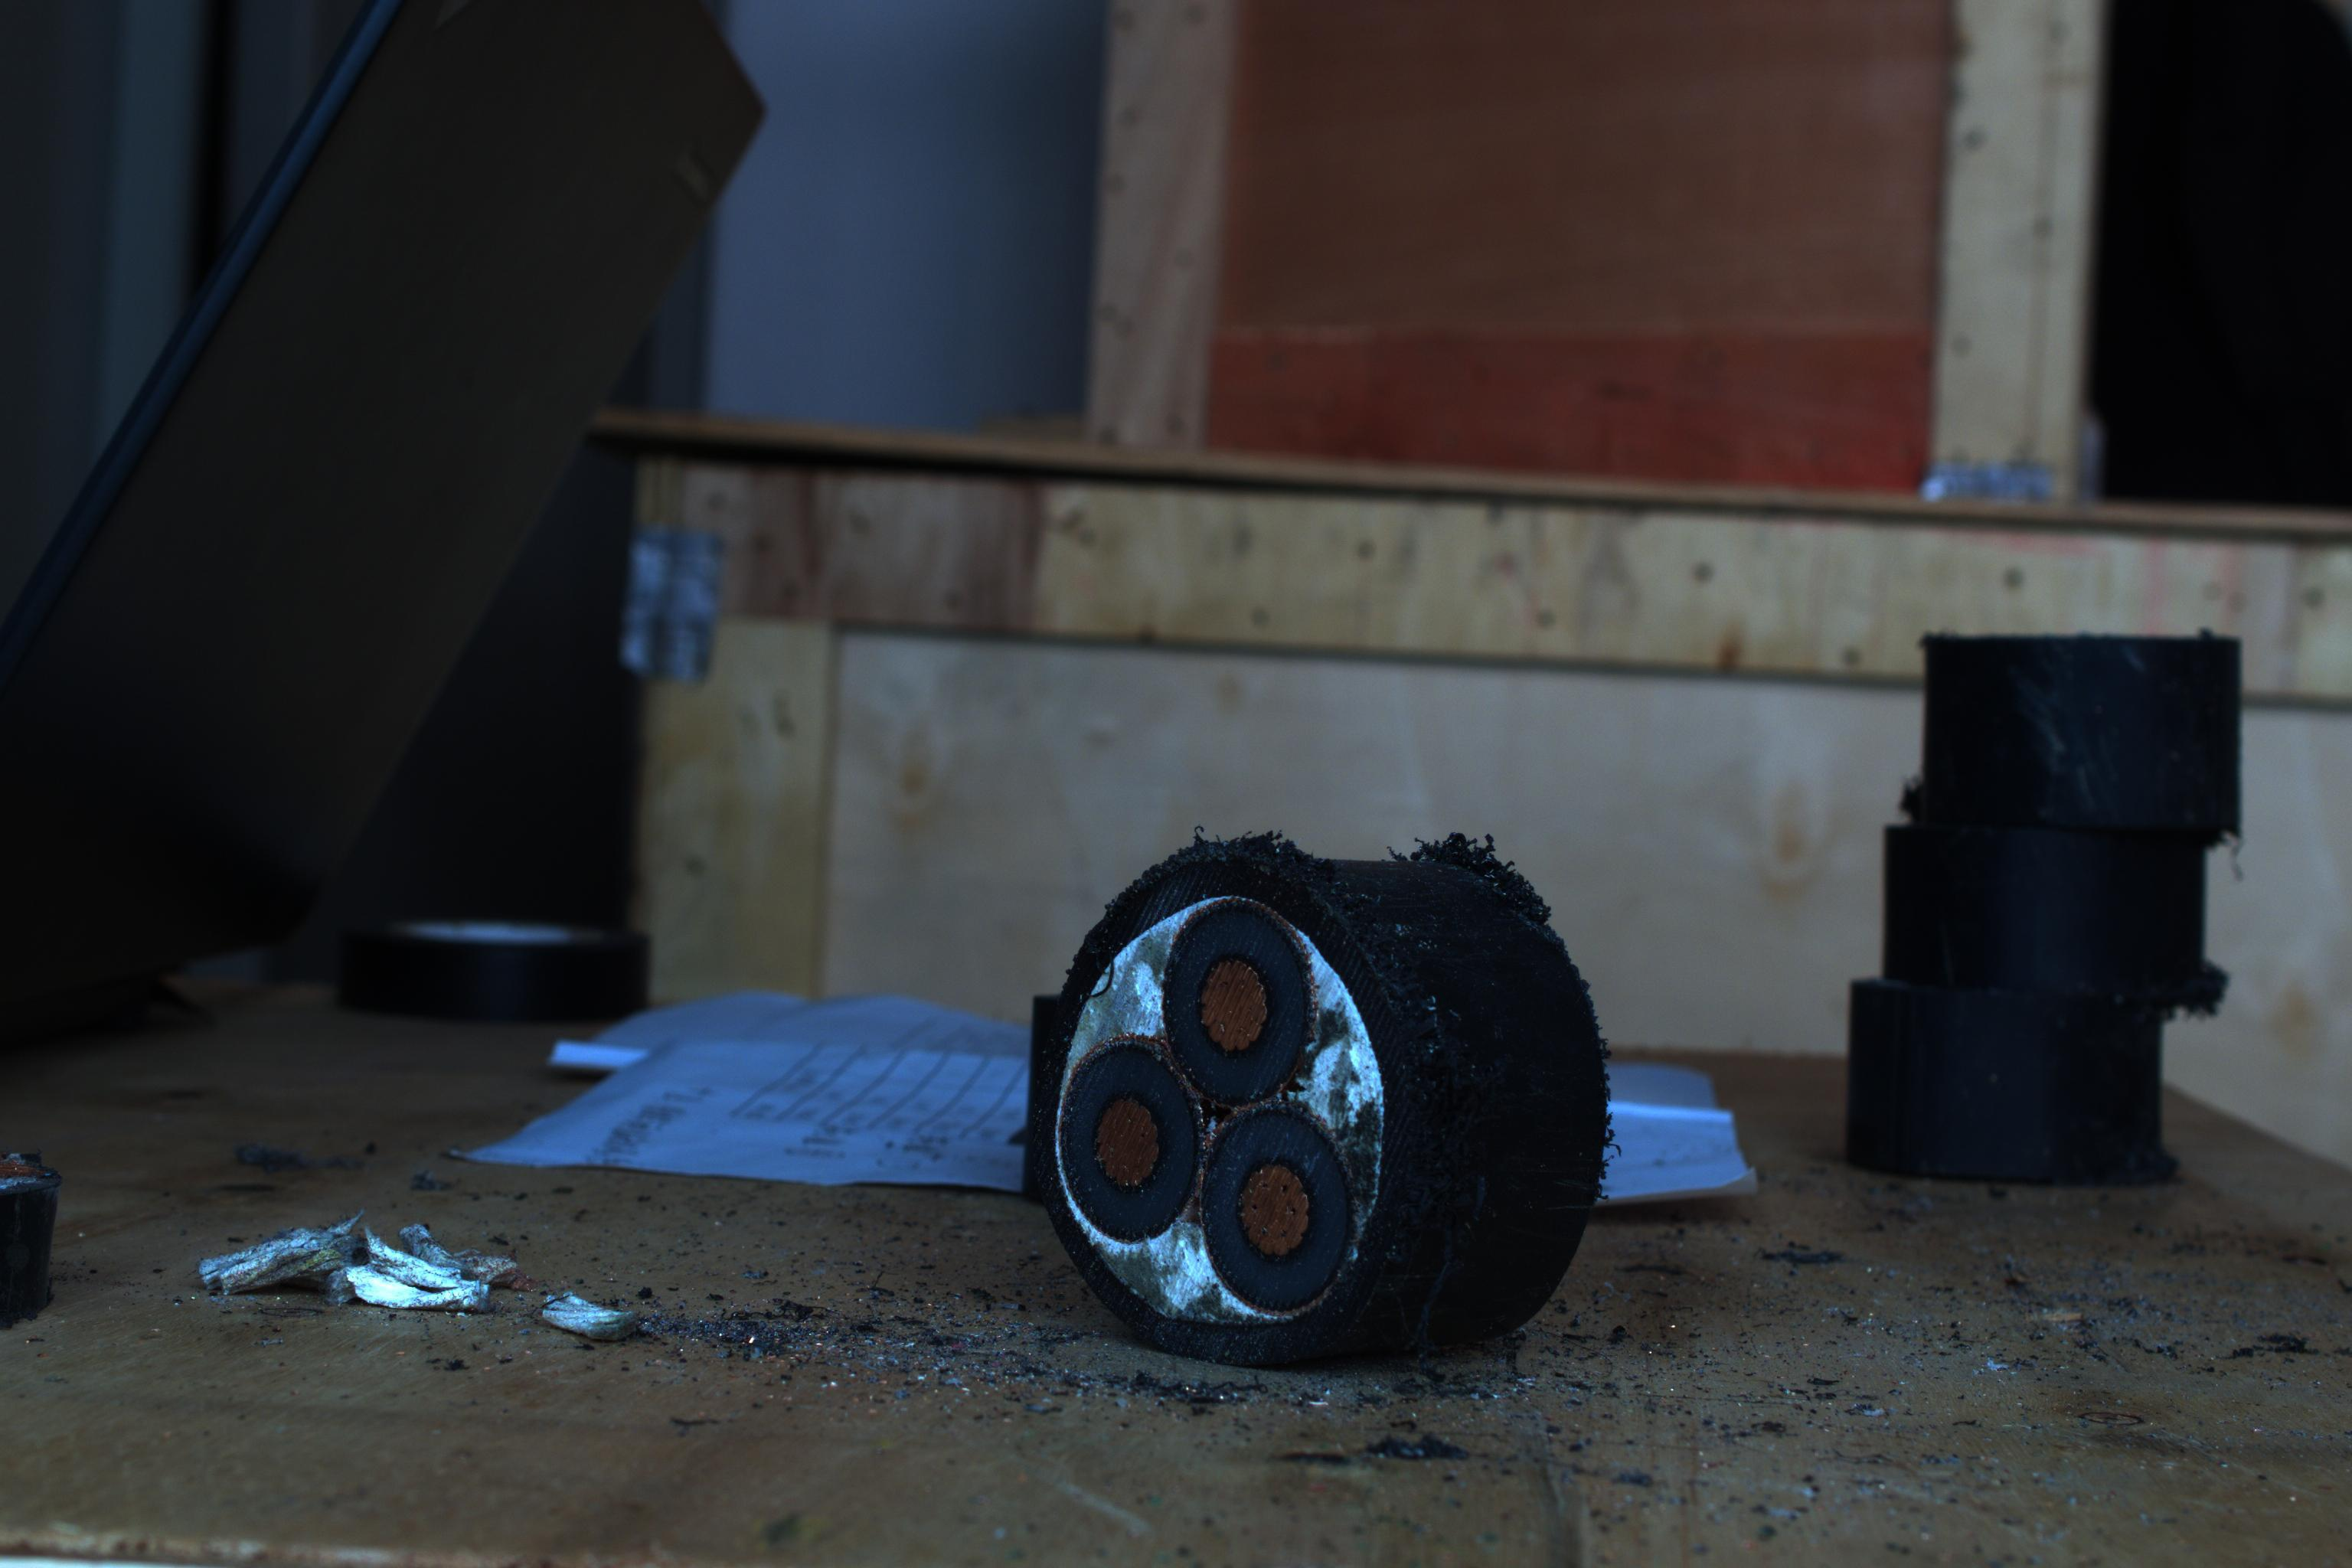YJV_8.7_10kV_3x70: (997, 859, 1384, 1340)
